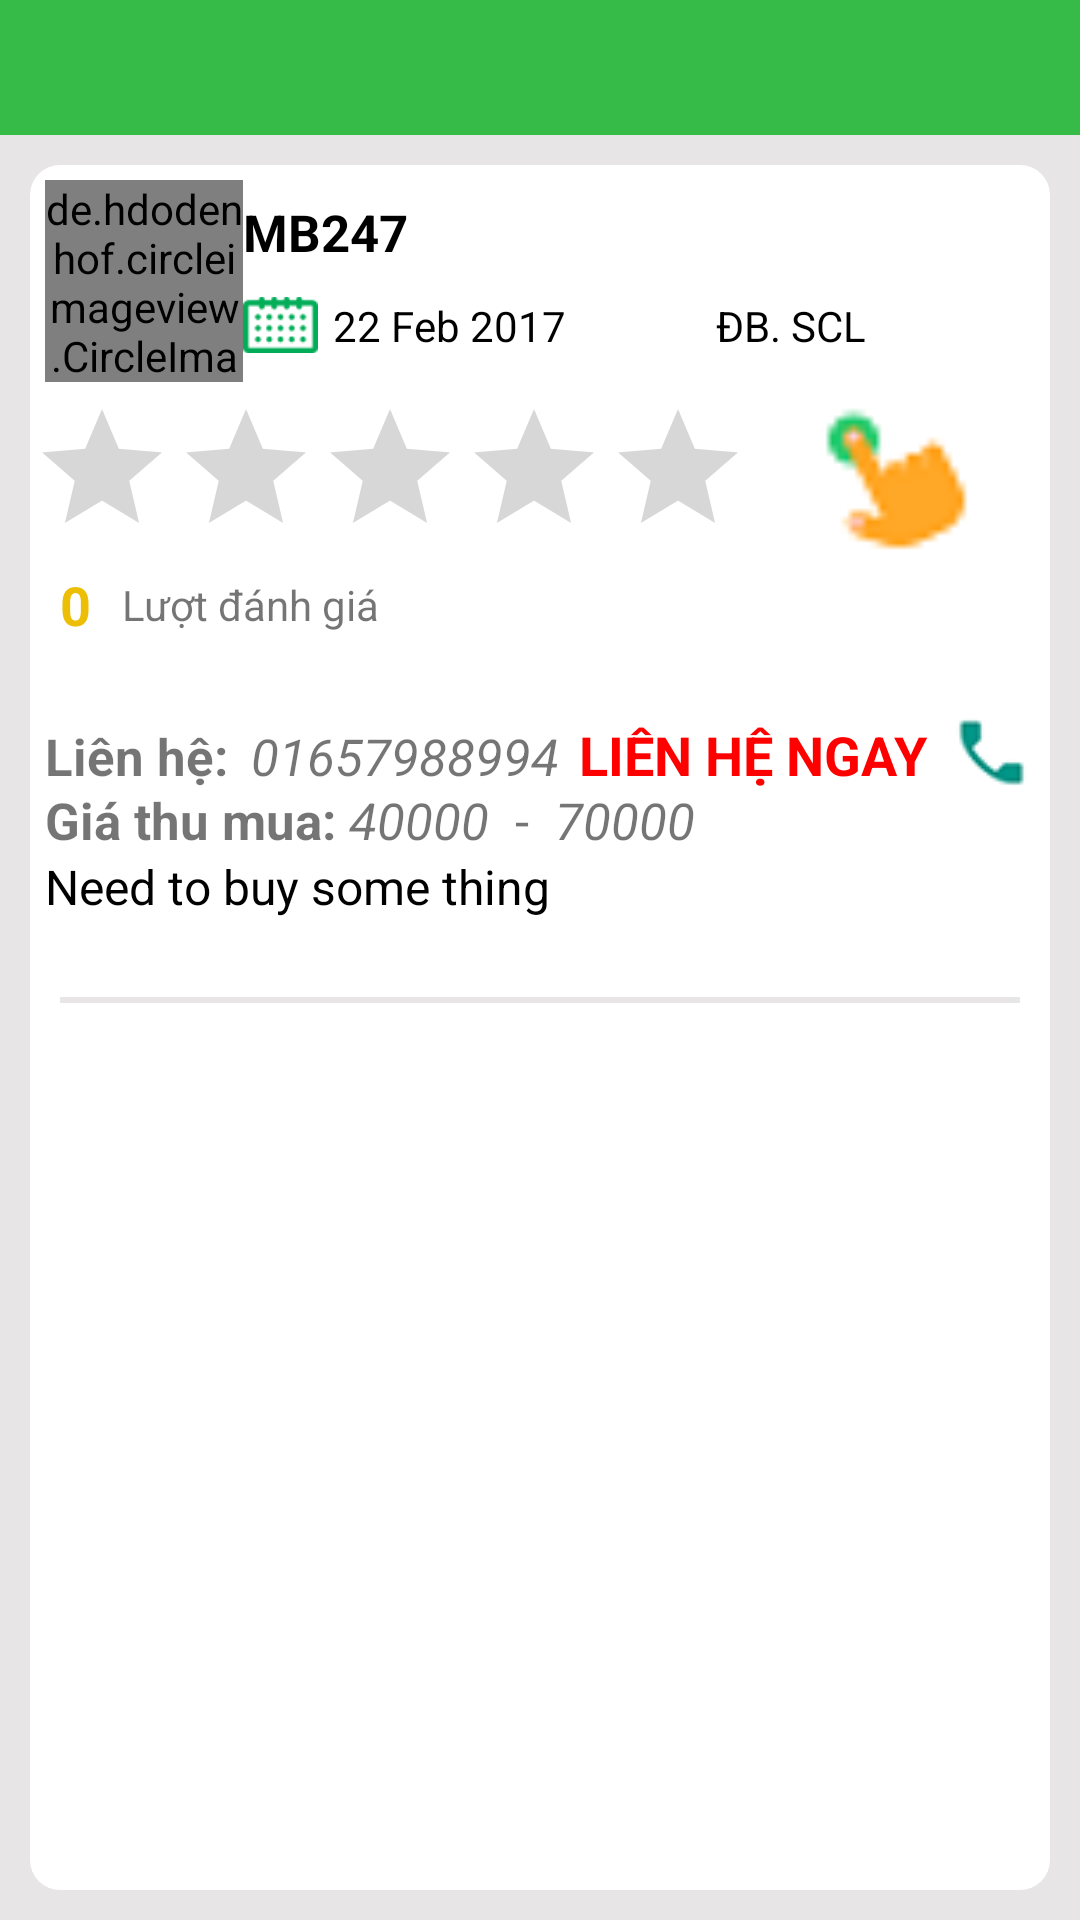

Where to tap for icons on this 1080 × 1920 app screen, as (x=x, y=y):
calendar: (x=280, y=325)
click: (x=896, y=479)
